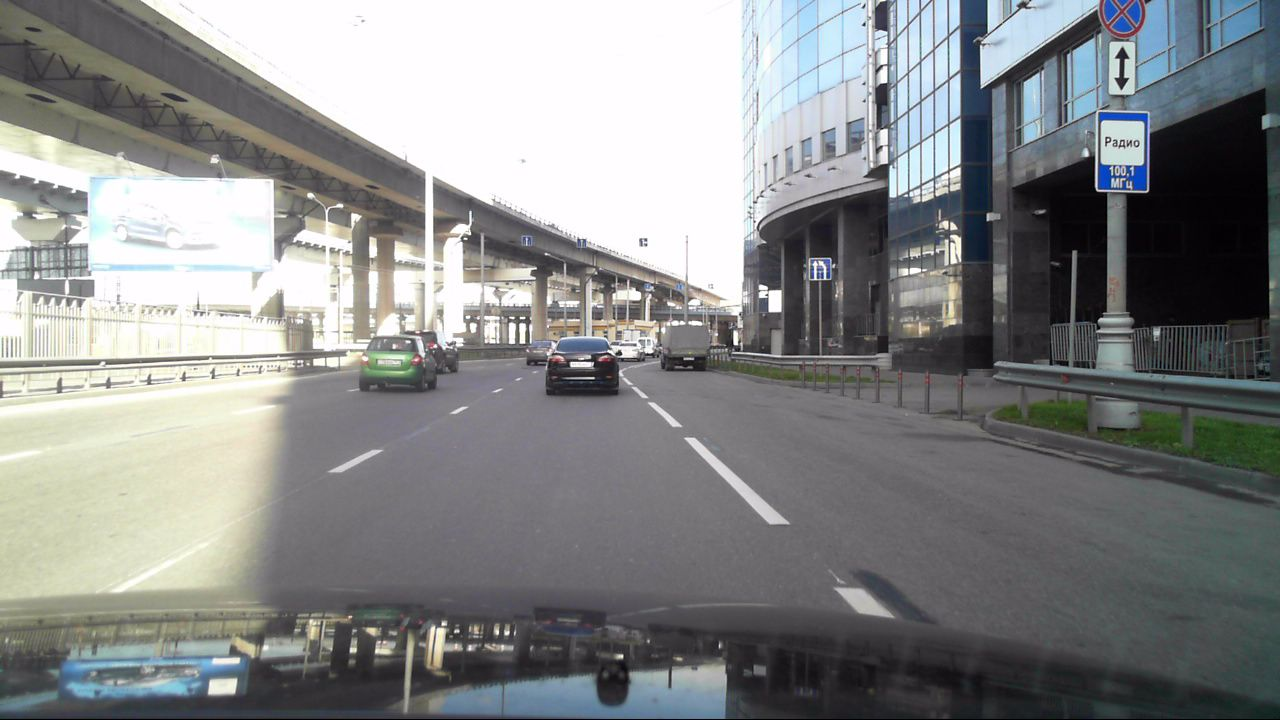No Parking: (1098, 0, 1146, 39)
